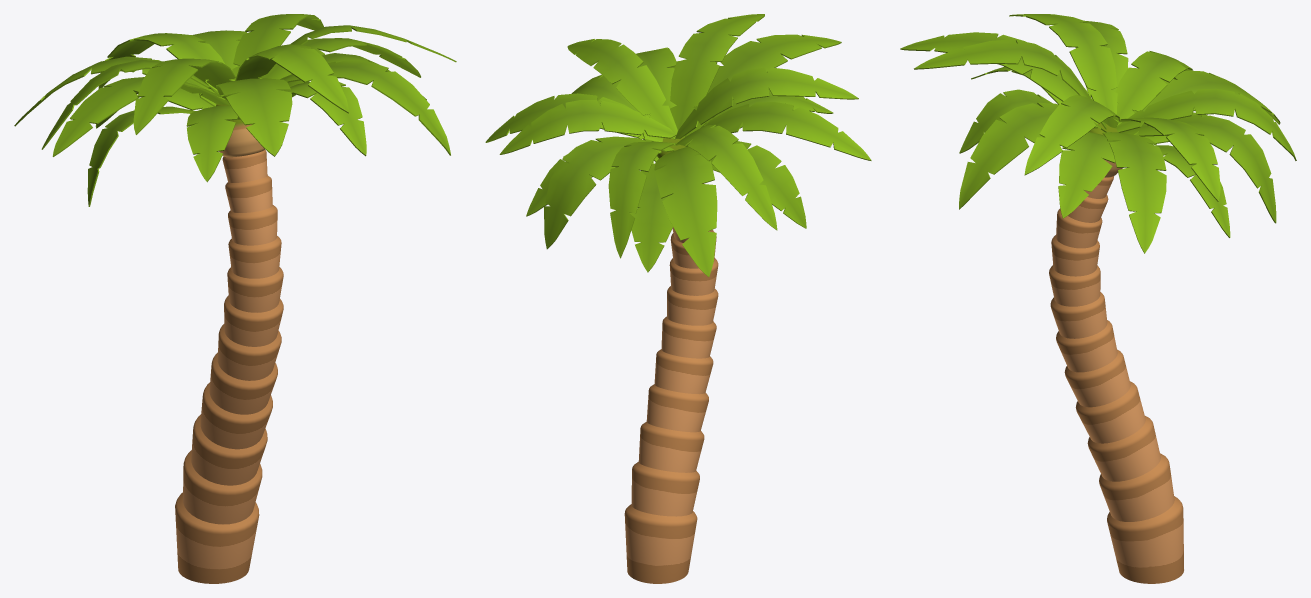
File: Palm_01.fbx
The picture shows the model from 3 angles, left to right: view 1: azimuth 30°, elevation 25°; view 2: azimuth 150°, elevation 25°; view 3: azimuth 270°, elevation 25°; orthographic projection. The views are drawn at different scales.
Visible parts, largest first — view 1: Palm_Main_01, Palm_Leaf_01_02, Palm_Leaf_01_03, Palm_Leaf_01_01, Palm_Up_01; view 2: Palm_Leaf_01_03, Palm_Main_01, Palm_Leaf_01_02, Palm_Leaf_01_01; view 3: Palm_Main_01, Palm_Leaf_01_03, Palm_Leaf_01_02, Palm_Leaf_01_01.
Part boxes in pixels (x1=…): Palm_Main_01: x1=175, y1=150, x2=283, y2=583; Palm_Leaf_01_02: x1=14, y1=30, x2=450, y2=156; Palm_Leaf_01_03: x1=41, y1=14, x2=456, y2=149; Palm_Leaf_01_01: x1=87, y1=53, x2=426, y2=206; Palm_Up_01: x1=216, y1=104, x2=264, y2=157; Palm_Leaf_01_03: x1=499, y1=14, x2=858, y2=258; Palm_Main_01: x1=624, y1=183, x2=718, y2=583; Palm_Leaf_01_02: x1=485, y1=34, x2=871, y2=276; Palm_Leaf_01_01: x1=526, y1=61, x2=833, y2=272; Palm_Main_01: x1=1049, y1=176, x2=1183, y2=583; Palm_Leaf_01_03: x1=914, y1=14, x2=1296, y2=201; Palm_Leaf_01_02: x1=900, y1=20, x2=1280, y2=253; Palm_Leaf_01_01: x1=959, y1=66, x2=1230, y2=237.
Bounding box in the file's own units: 8.48 × 11.33 × 7.78.
